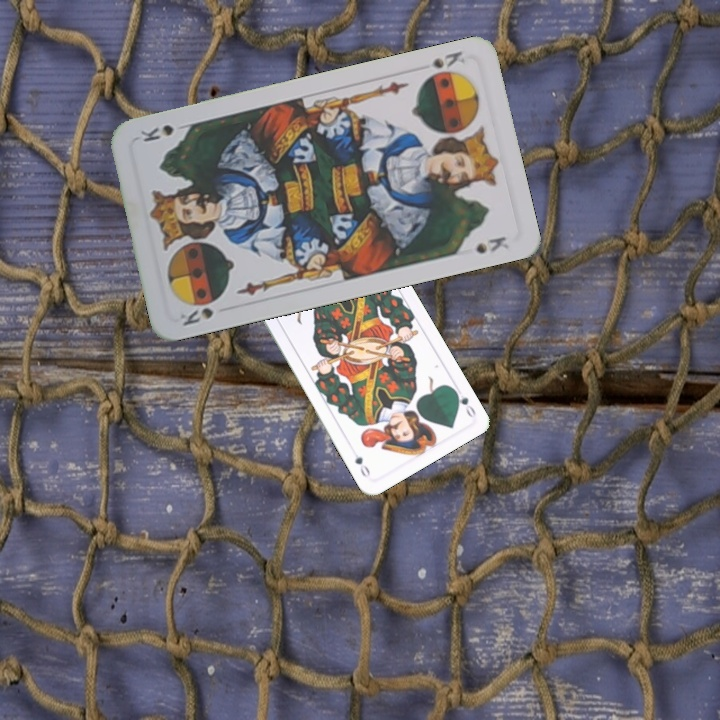GO: (450, 385, 479, 420)
SK: (419, 46, 467, 83), (175, 303, 216, 329)
